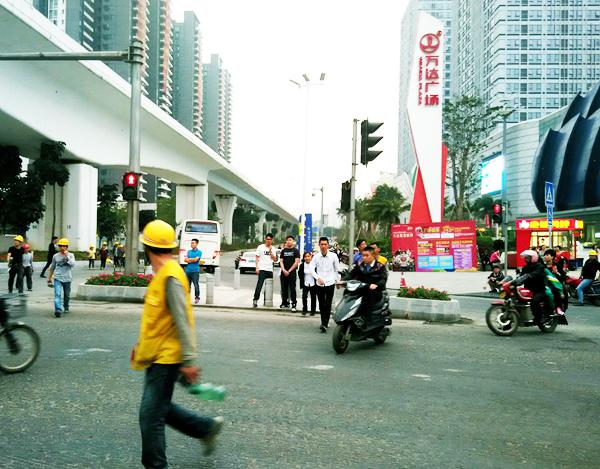helmet: (140, 220, 179, 251), (58, 238, 71, 248), (588, 249, 598, 258), (14, 235, 25, 243), (23, 244, 31, 250), (90, 244, 95, 249), (115, 242, 120, 247), (104, 242, 108, 247), (119, 245, 124, 249)
